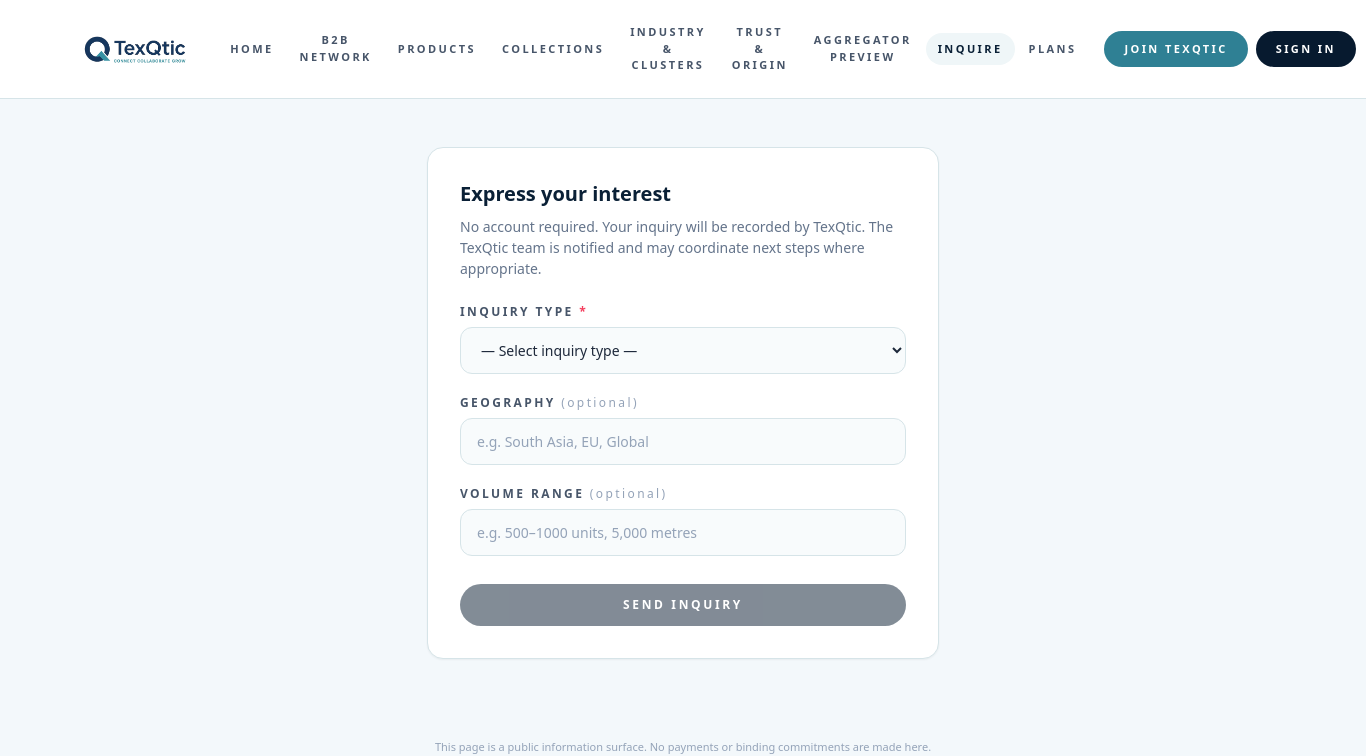
Test: PublicInquiryPage › PII-006 — generic error → error message with retry button
Select "Sourcing intent — I am actively looking to source" in the dropdown labelled "Inquiry type *" at (683, 350), box [460, 326, 906, 374]
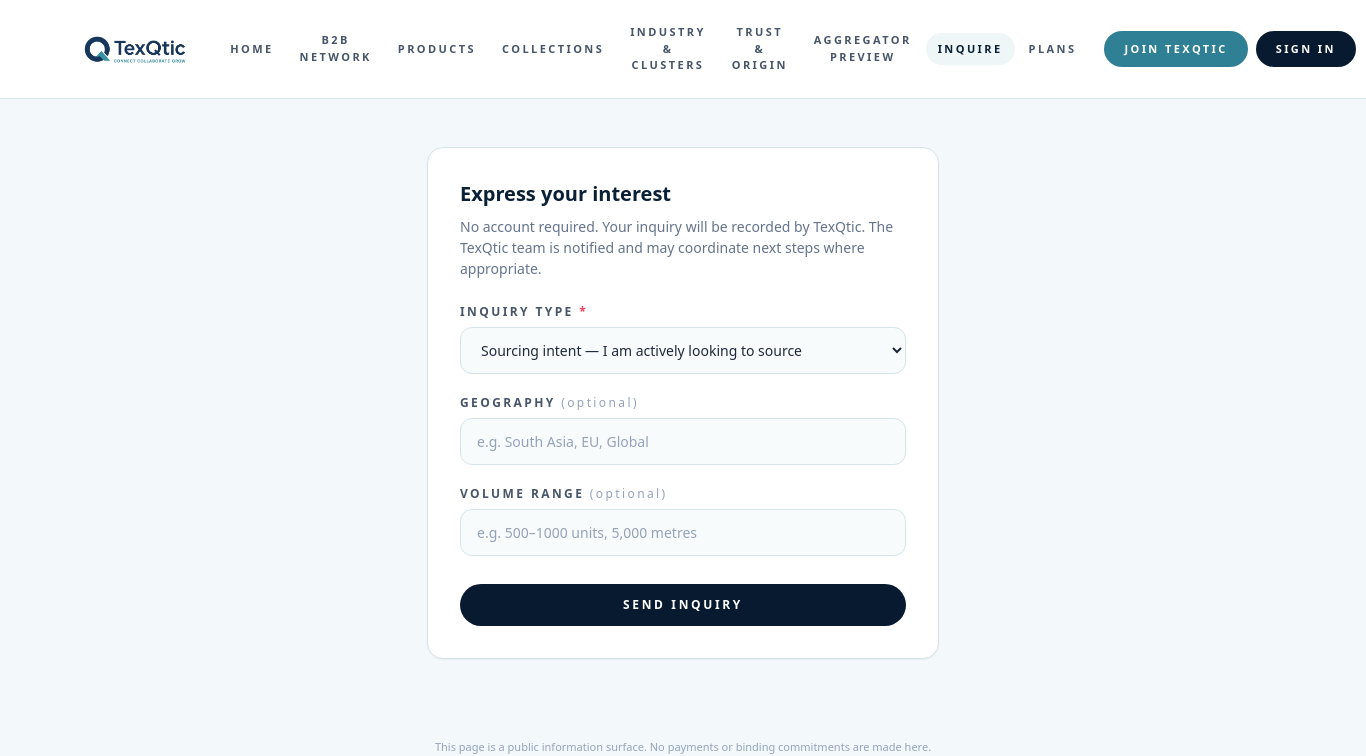
Click the button "Send inquiry" at (683, 604), box [460, 584, 906, 626]
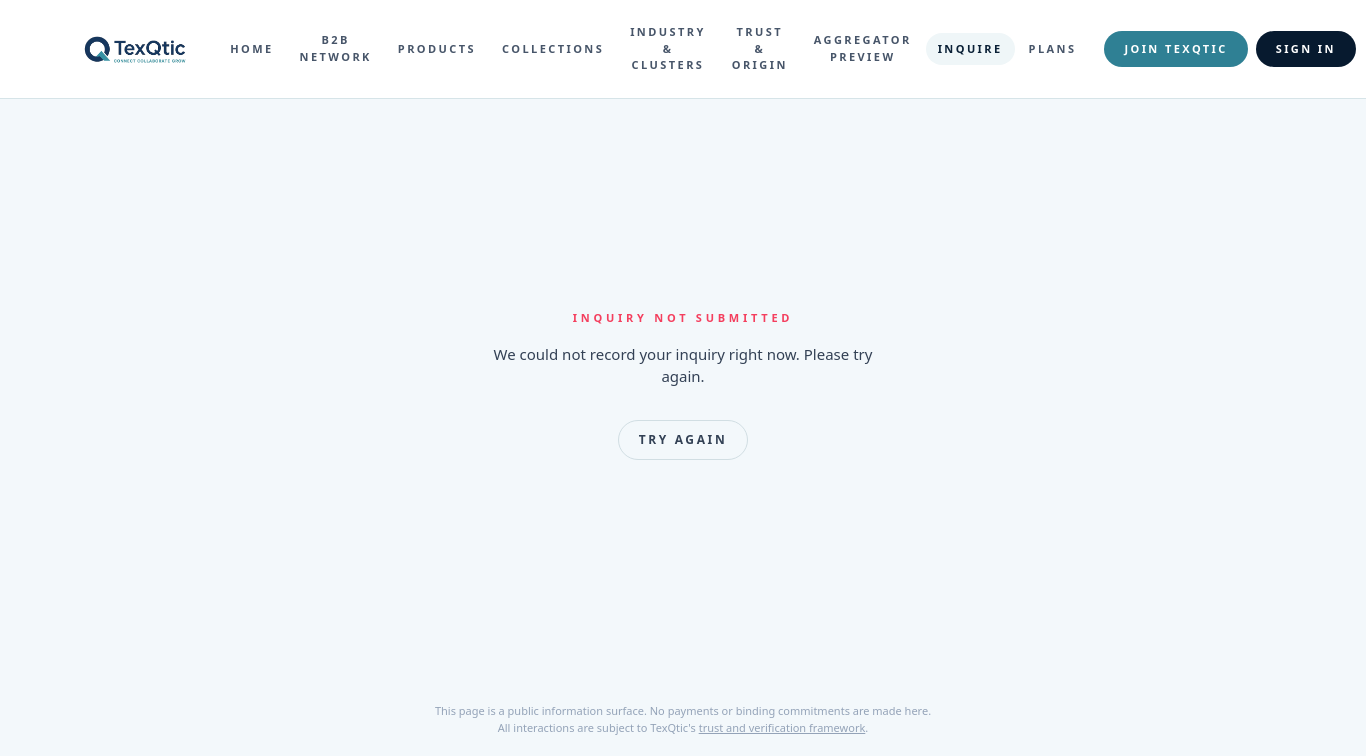
Check: the text "We could not record your inquiry right now" is shown, box [494, 344, 872, 386]
Check: the button "Try again" is shown, box [618, 420, 748, 460]
